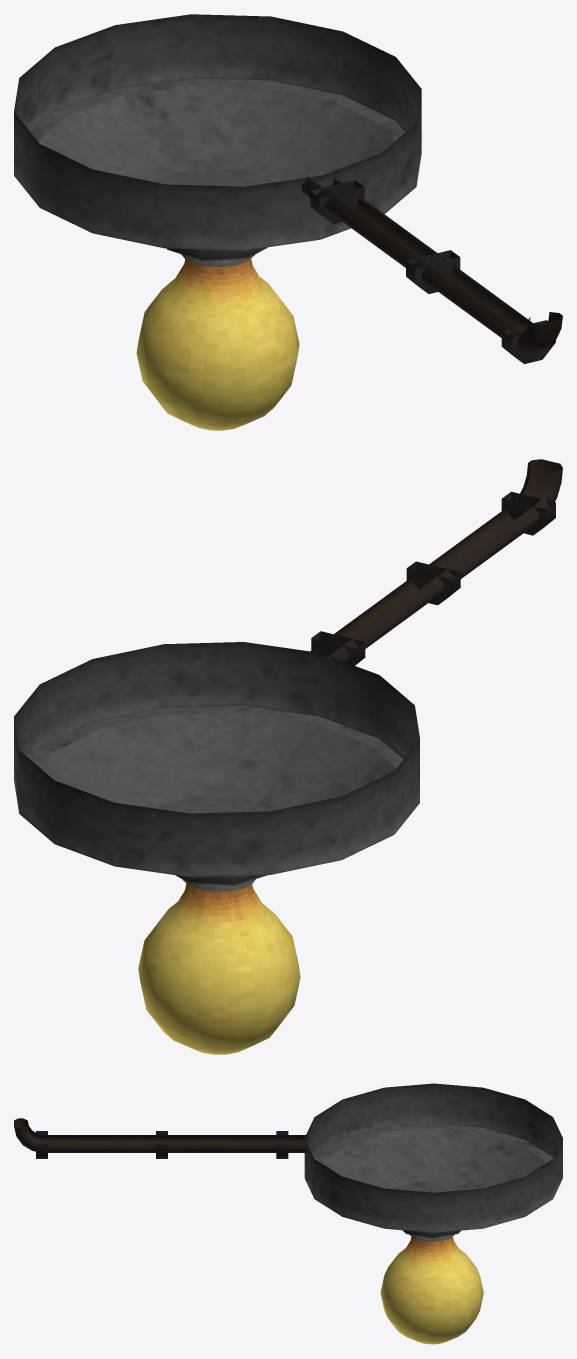
The model's file is ceiling_lamp_mp_1_on.obj.
The picture shows the model from 3 angles, top to bottom: view 1: azimuth 30°, elevation 25°; view 2: azimuth 150°, elevation 25°; view 3: azimuth 270°, elevation 25°; orthographic projection. The views are drawn at different scales.
Parts seen in each view (by area): view 1: ceiling_lamp_mp_1_on; view 2: ceiling_lamp_mp_1_on; view 3: ceiling_lamp_mp_1_on.
Part boxes in pixels (x1,y1,x2,y2): ceiling_lamp_mp_1_on: [14, 14, 562, 430]; ceiling_lamp_mp_1_on: [14, 459, 562, 1054]; ceiling_lamp_mp_1_on: [14, 1083, 562, 1344].
Size of the model in its own units: 0.215 by 0.1988 by 0.4568.
